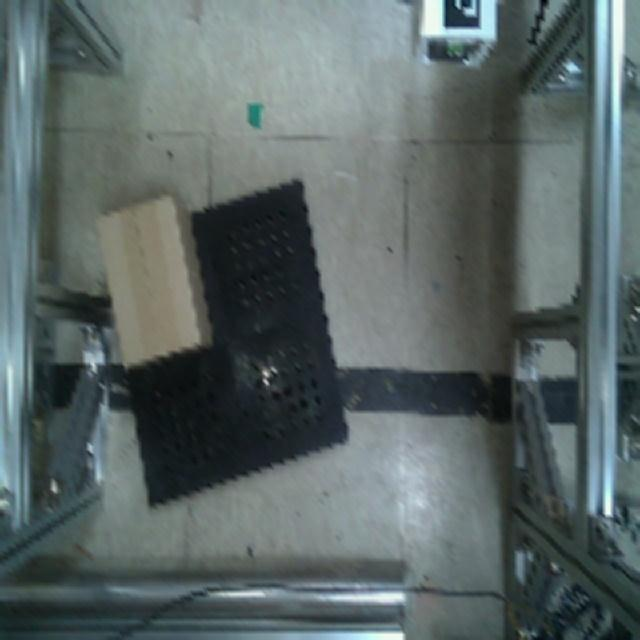box: (90, 191, 215, 370)
